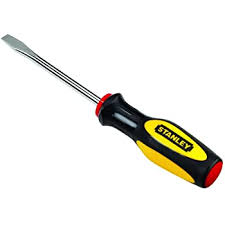screwdriver: (2, 24, 225, 206)
